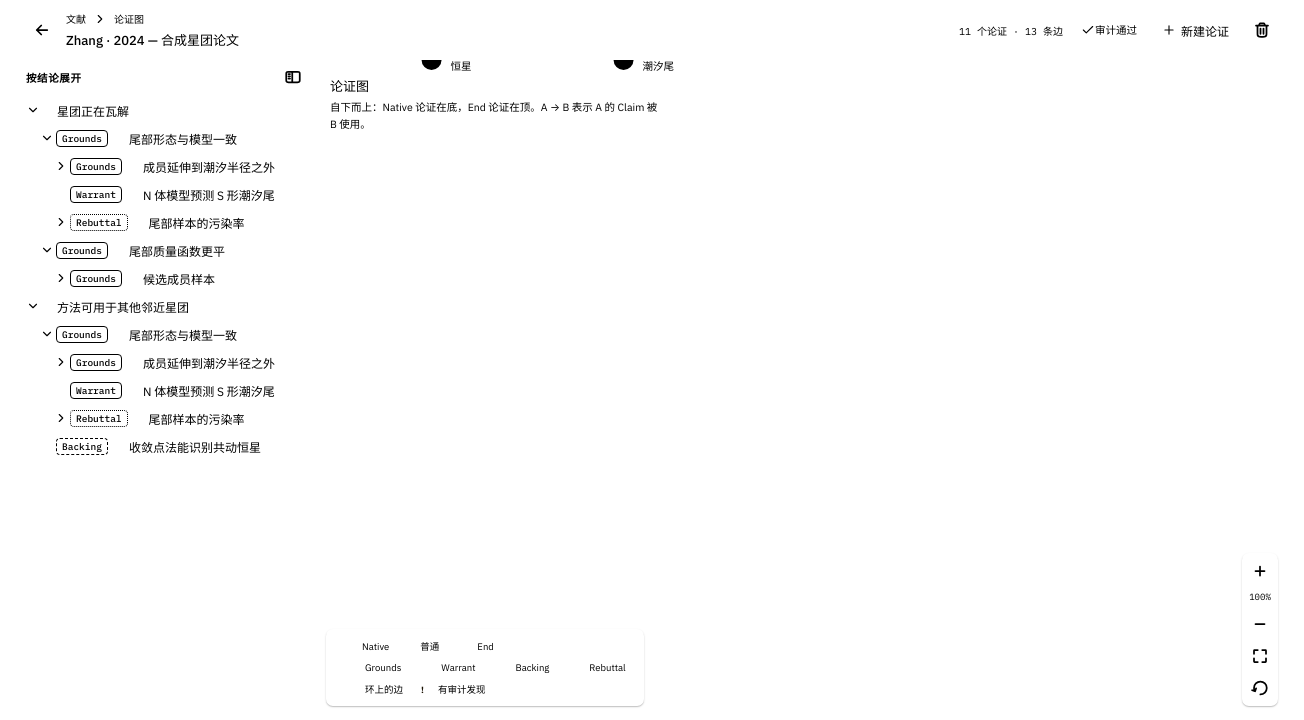
Test case: editing an existing argument › Cancel puts the stored text back
Click the 1st button "Grounds 成员延伸到潮汐半径之外" at x=189, y=166, box [70,154,308,178]
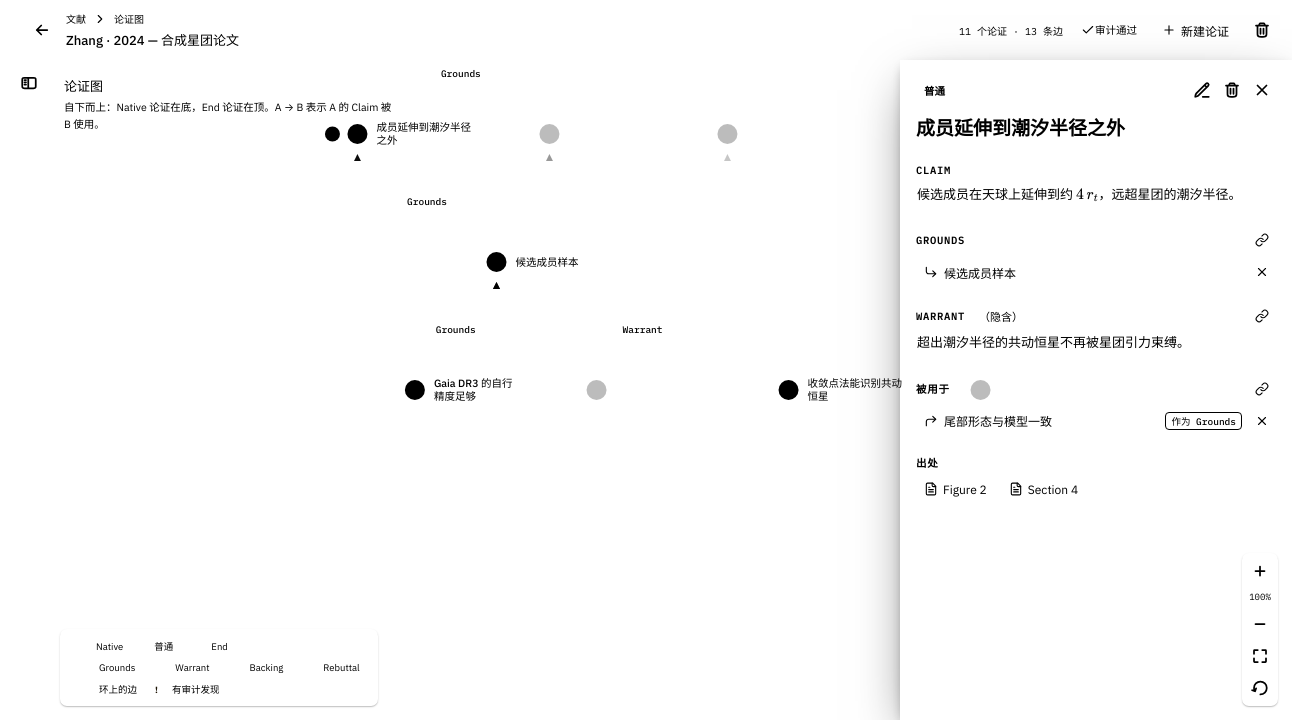
Click the button named "编辑" at x=1202, y=90, box [1188,76,1216,104]
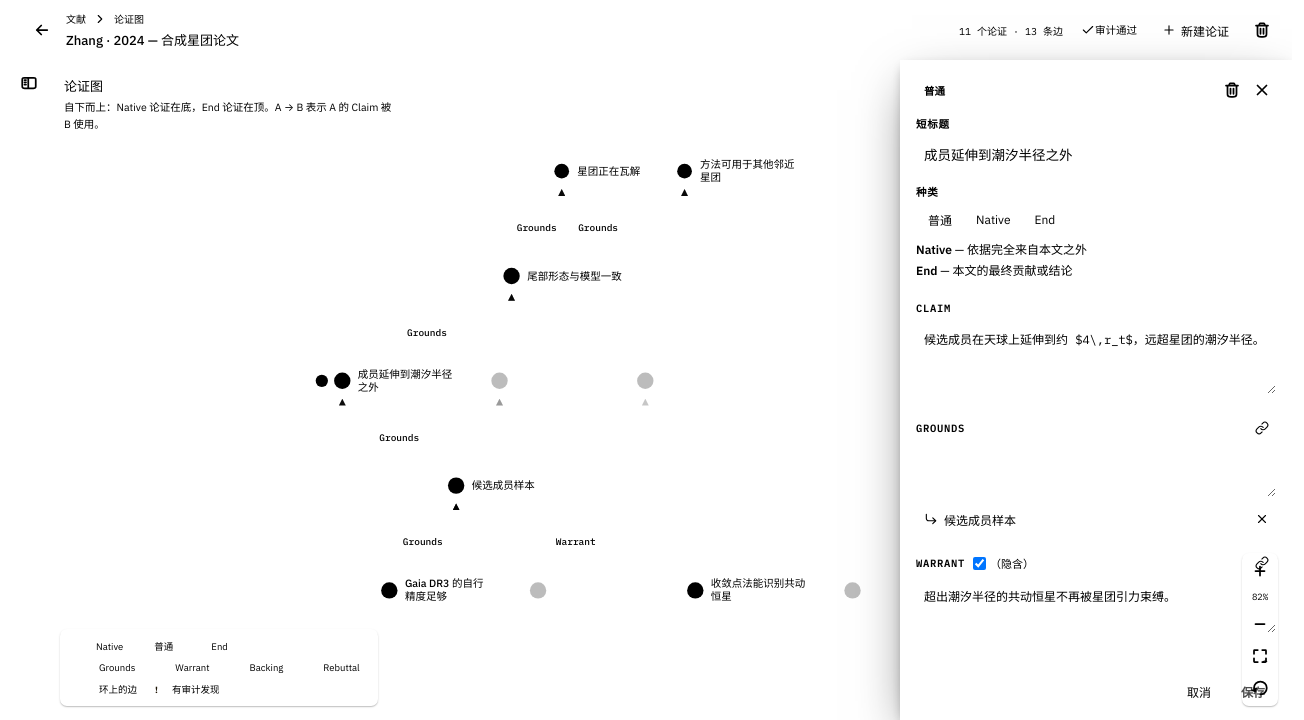
Replace the text in the field labelled "短标题" with "改了" at x=1096, y=154, box [916,136,1276,172]
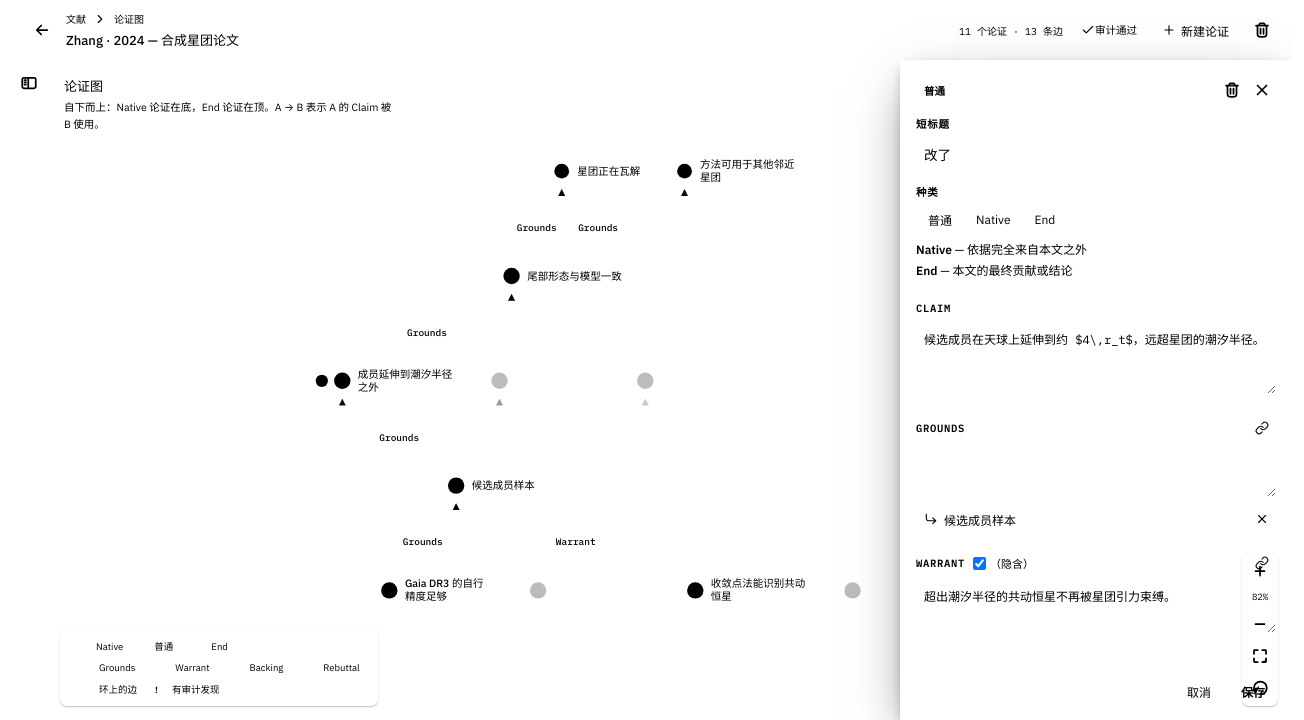
Click the button "取消" at x=1199, y=691, box [1176,675,1222,707]
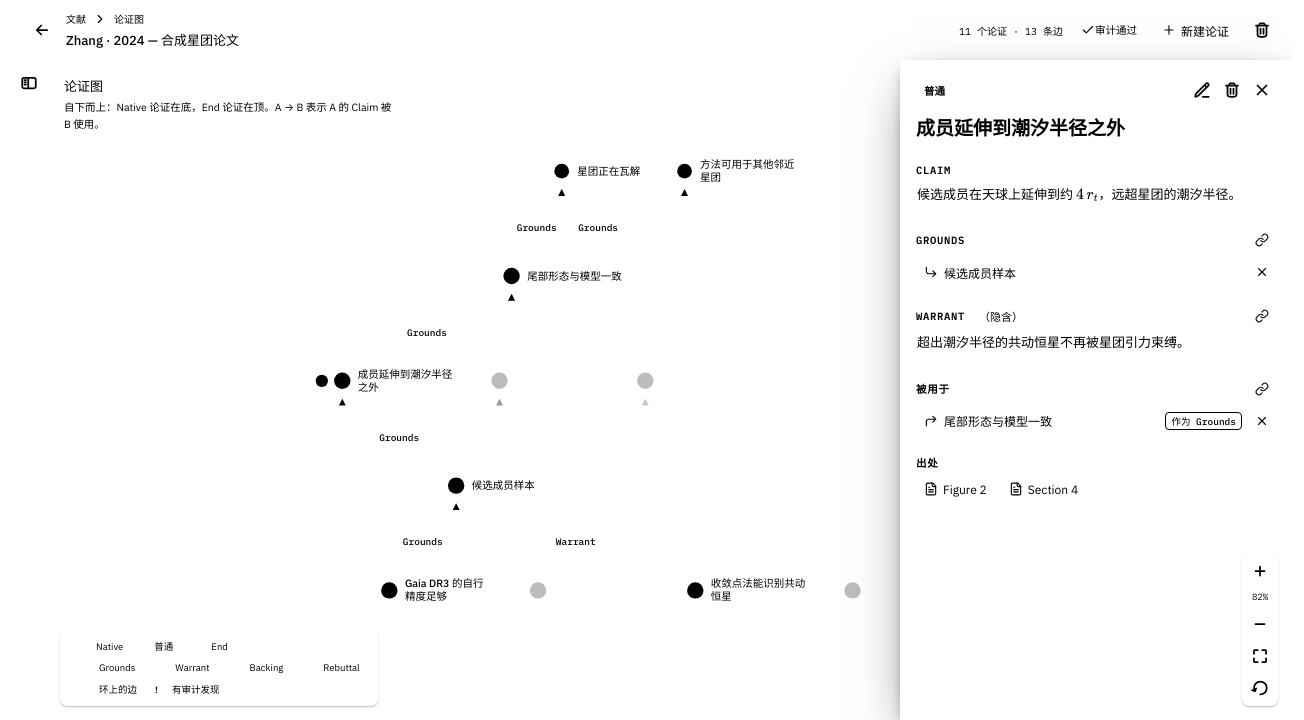
Now the heading "成员延伸到潮汐半径之外" is shown, box [916,116,1125,140]
